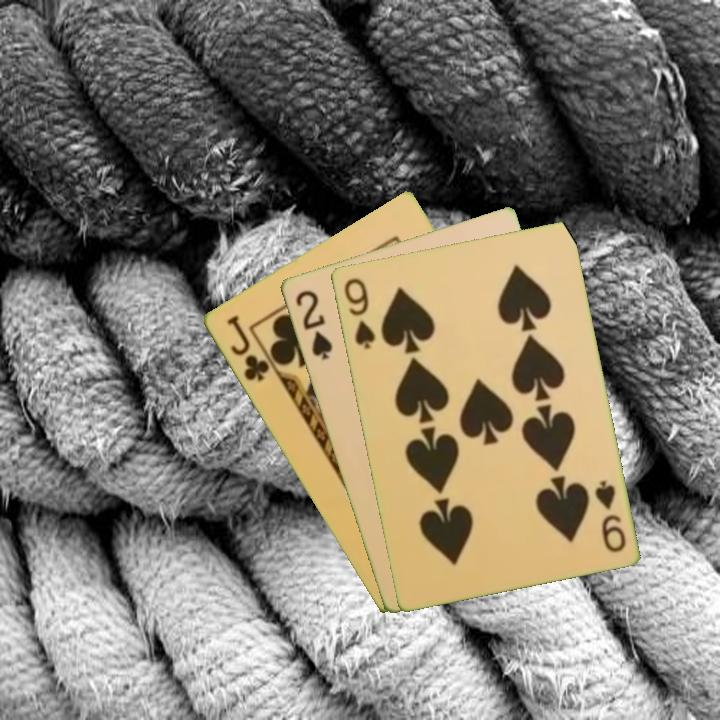2s: (291, 286, 336, 363)
9s: (590, 476, 628, 555), (340, 274, 378, 352)
Jc: (222, 311, 272, 384)
